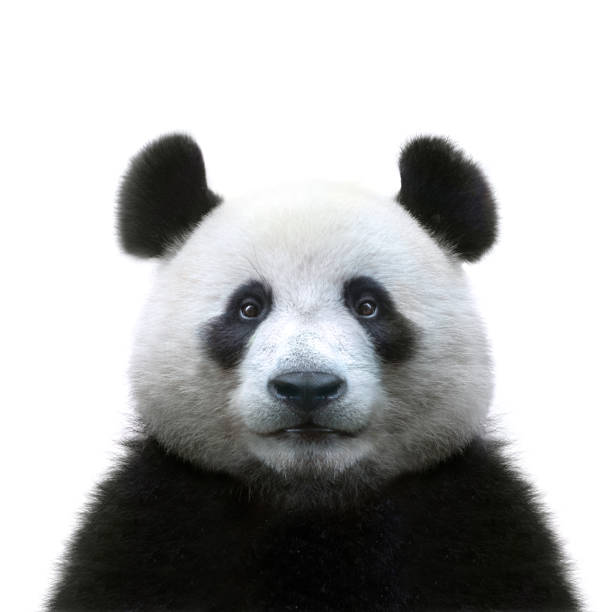panda: (91, 111, 526, 527)
